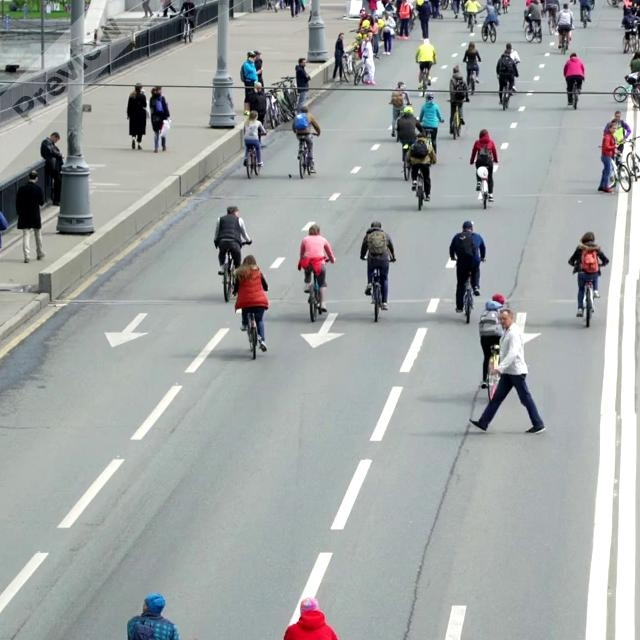bicycle: (363, 256, 395, 322), (302, 258, 333, 322), (454, 257, 483, 324), (573, 268, 601, 328), (598, 144, 631, 192), (238, 307, 266, 360), (482, 344, 501, 402), (474, 161, 496, 209), (218, 248, 237, 302), (296, 132, 317, 178), (447, 97, 468, 139), (410, 166, 430, 210), (353, 53, 380, 85), (613, 72, 639, 105), (460, 271, 475, 324), (243, 140, 263, 178), (263, 88, 282, 128), (498, 74, 516, 110), (625, 136, 639, 181), (566, 77, 583, 110), (389, 105, 405, 137), (418, 63, 433, 97), (464, 64, 479, 95), (401, 143, 412, 181), (180, 14, 194, 43), (340, 52, 352, 82)
